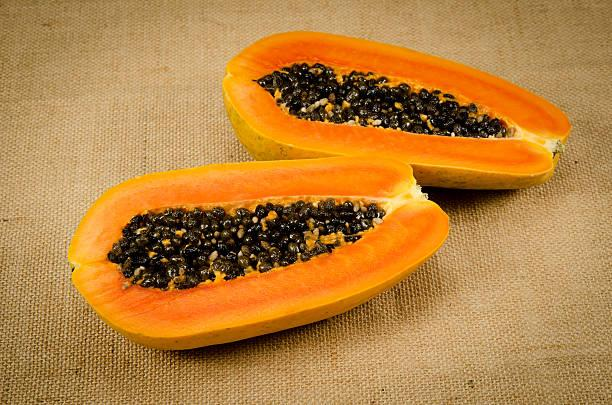papaya: (55, 158, 455, 357), (193, 28, 577, 159)
